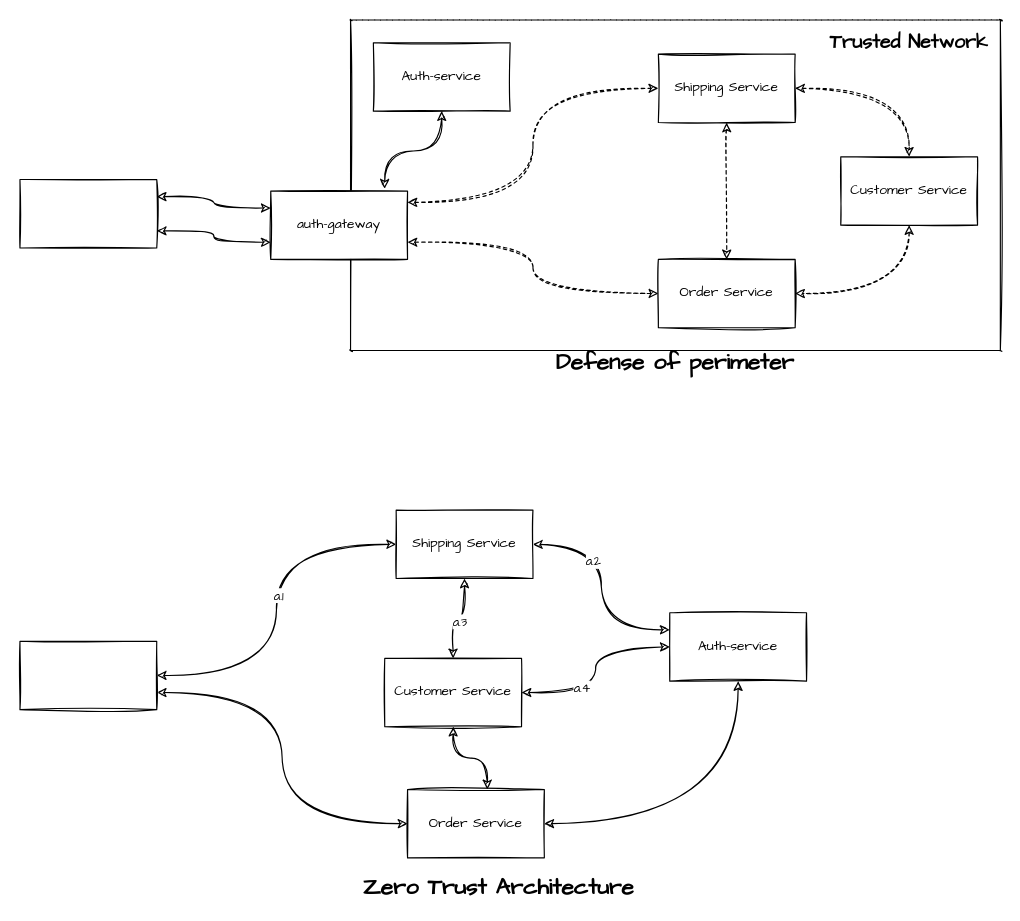
This 1020x921 diagram has some shape labels left out. Here are the shapes that lost their labels. From the top down, the centre of each, then its label:
the point at 88,213: External System (Untrusted)
the point at 88,675: External System
